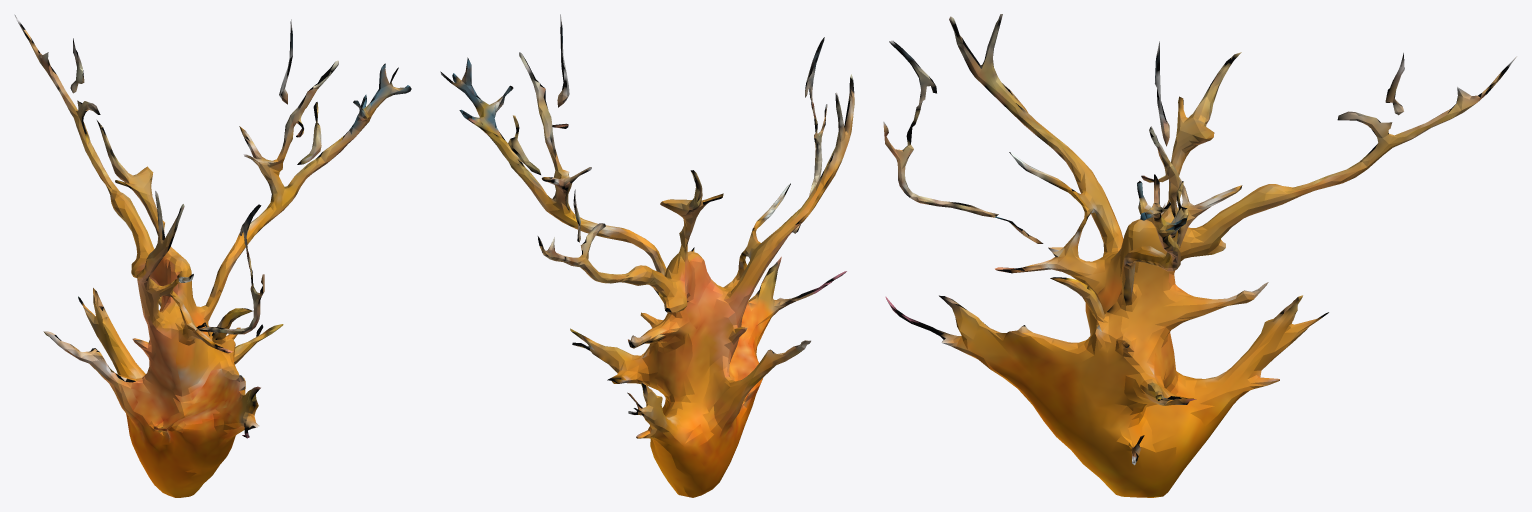
File: Plant3.glb
3 views of the same model, side by side, from view 1: azimuth 30°, elevation 25°; view 2: azimuth 150°, elevation 25°; view 3: azimuth 270°, elevation 25° (orthographic). The views are drawn at different scales.
Visible parts, largest first — view 1: model.013_LOD0; view 2: model.013_LOD0; view 3: model.013_LOD0.
Part boxes in pixels (box(x1,y1,x2,y2)): model.013_LOD0: box(15, 15, 411, 497); model.013_LOD0: box(440, 14, 854, 497); model.013_LOD0: box(883, 14, 1516, 497).
Size of what is drawn, in the model's own units: 0.4396 by 0.5118 by 0.5626.
Materials: 1 (1 with a texture image).
